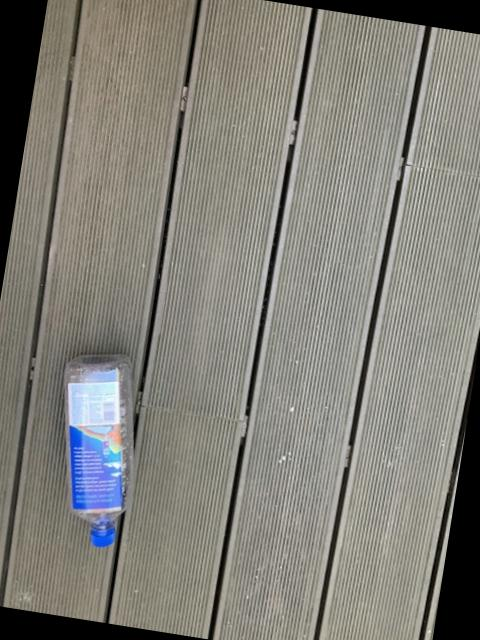plastic: (66, 353, 135, 546)
